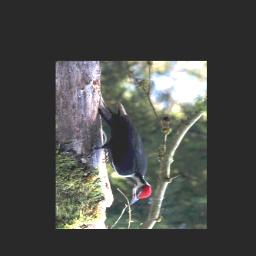Woodpecker: (82, 94, 152, 206)
